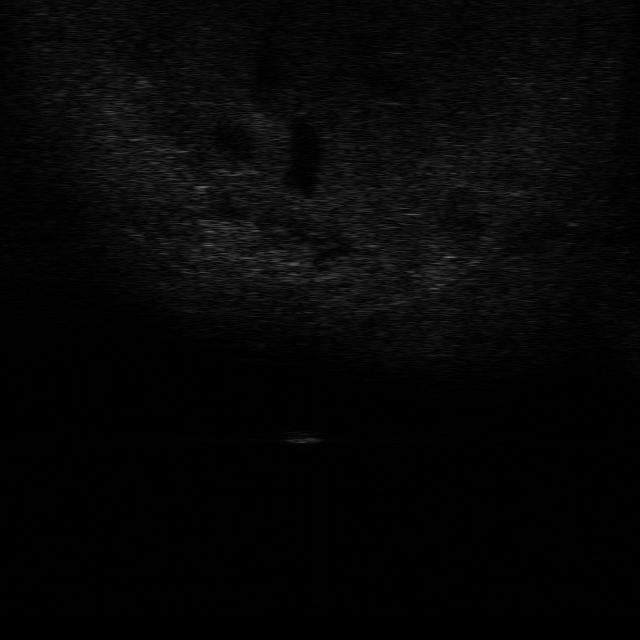cube: (285, 428, 326, 444)
